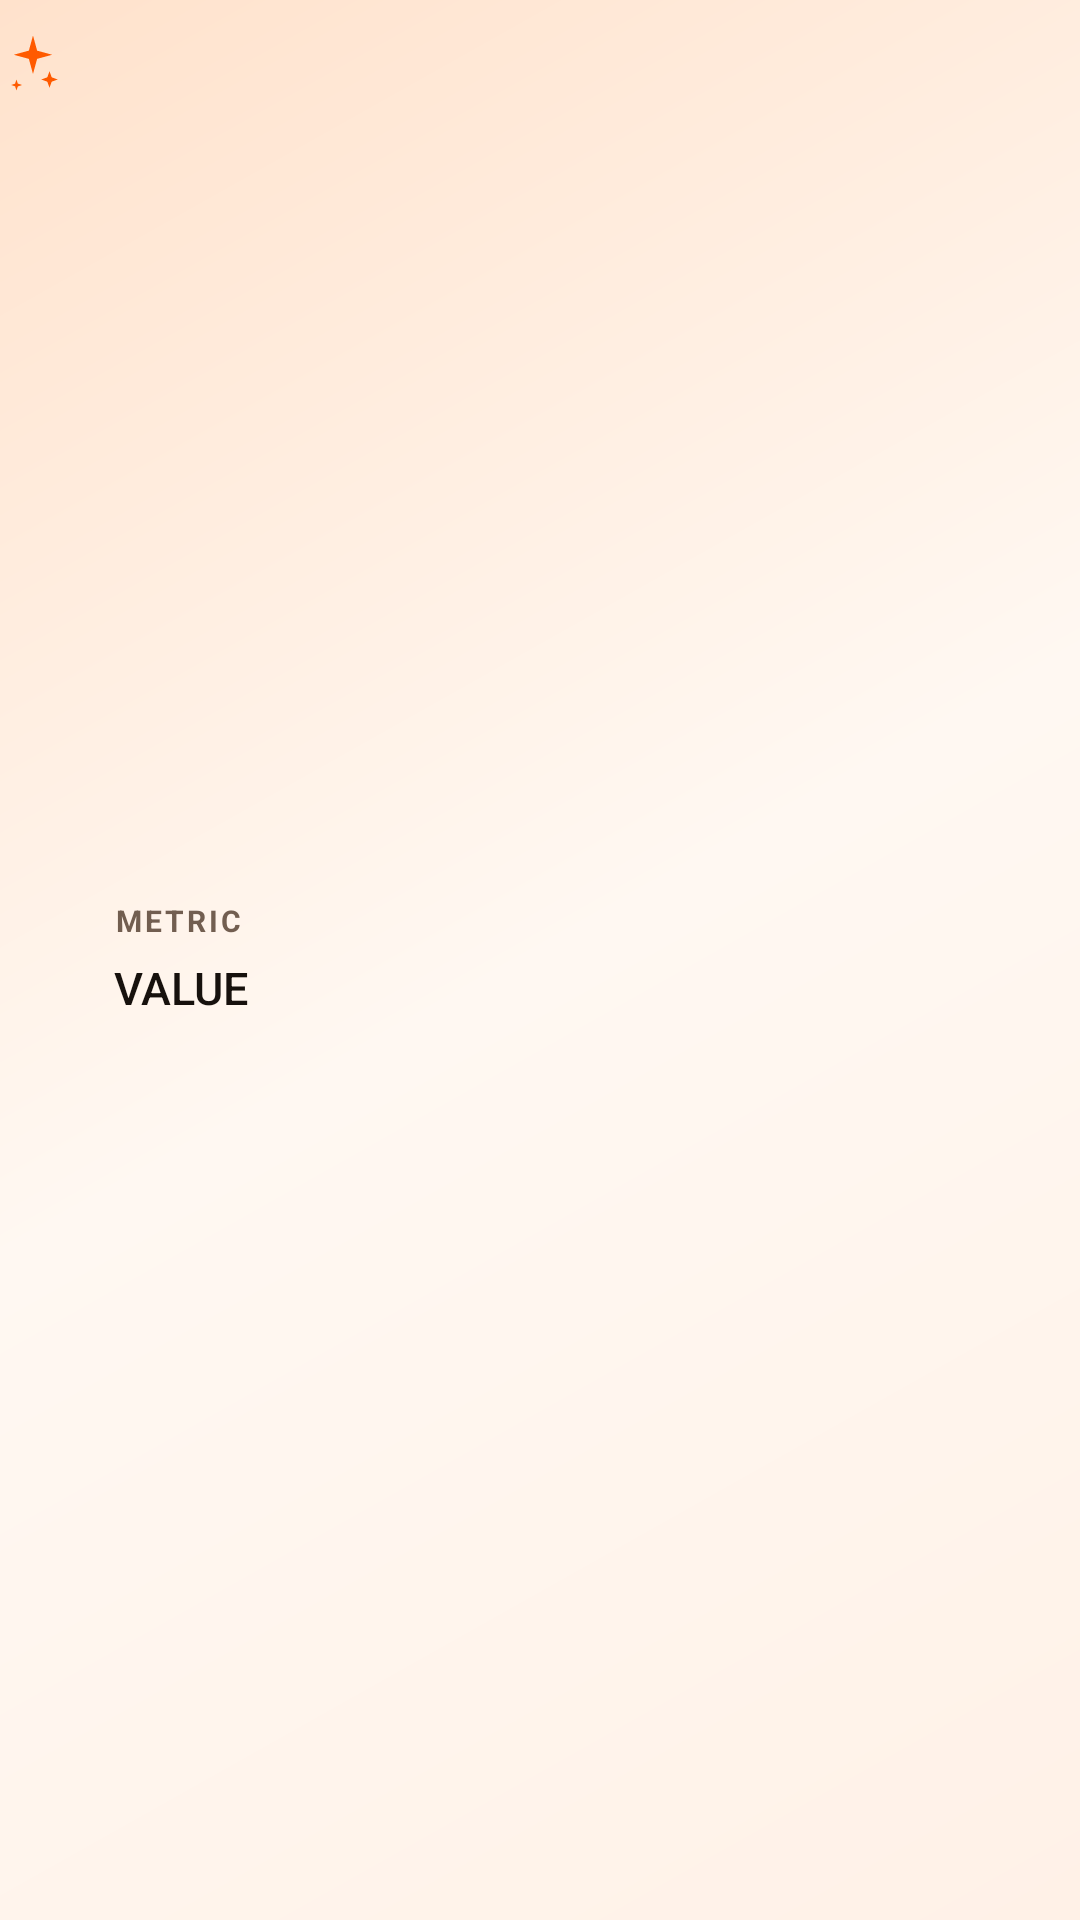

Named icons in this screenshot (1080 × 1920) and their centers, (x=x, y=y):
sparkle: (x=34, y=63)
